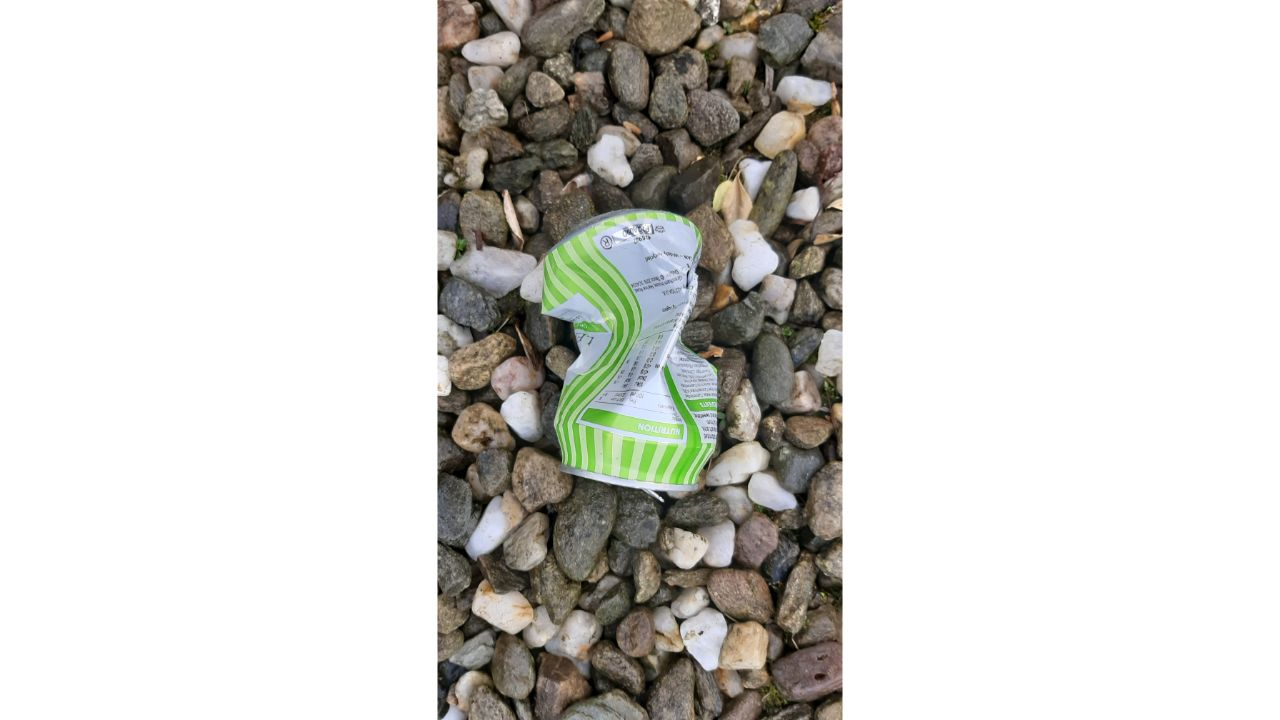Can: (540, 208, 719, 494)
